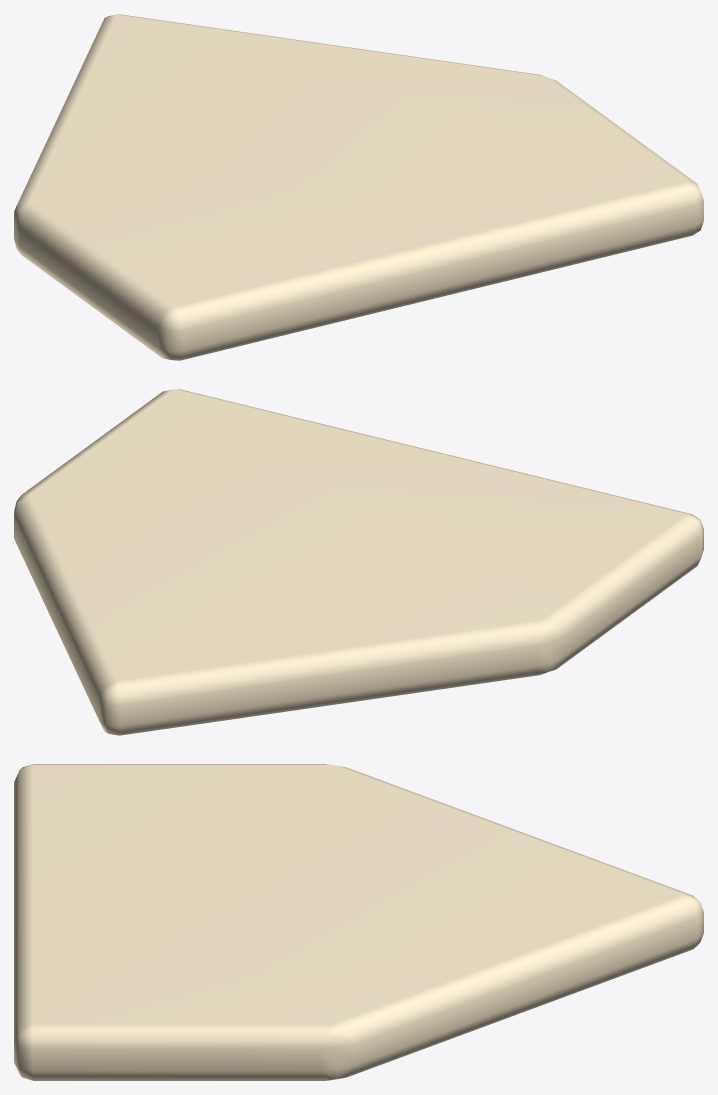
File: home-plate.glb
3 views of the same model, one above another, from view 1: azimuth 30°, elevation 25°; view 2: azimuth 150°, elevation 25°; view 3: azimuth 270°, elevation 25° (orthographic). The views are drawn at different scales.
Parts seen in each view (by area): view 1: home-plate_cream; view 2: home-plate_cream; view 3: home-plate_cream.
Part boxes in pixels (x1,y1,x2,y2): home-plate_cream: (14,14,703,360); home-plate_cream: (14,389,703,735); home-plate_cream: (14,764,703,1080).
Bounding box in the file's own units: 0.84 × 0.08 × 0.889.
